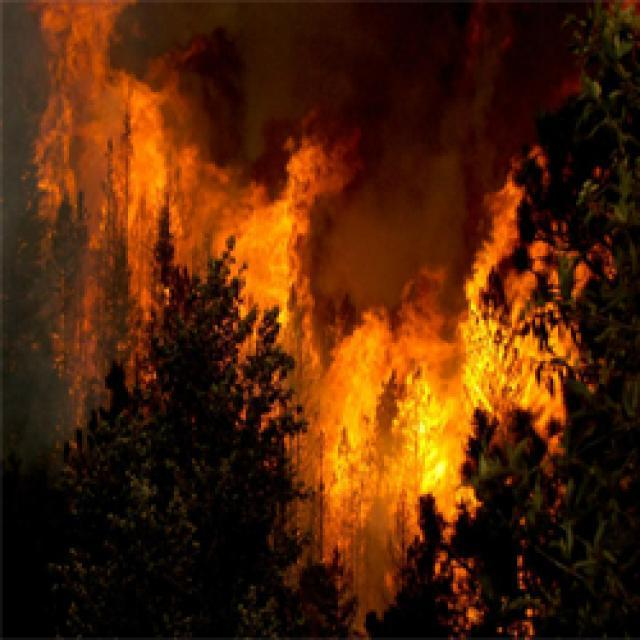Fire: (269, 244, 528, 608), (460, 142, 620, 514), (134, 120, 368, 350), (36, 0, 208, 233), (30, 220, 204, 427)
Smoke: (325, 132, 505, 300)
